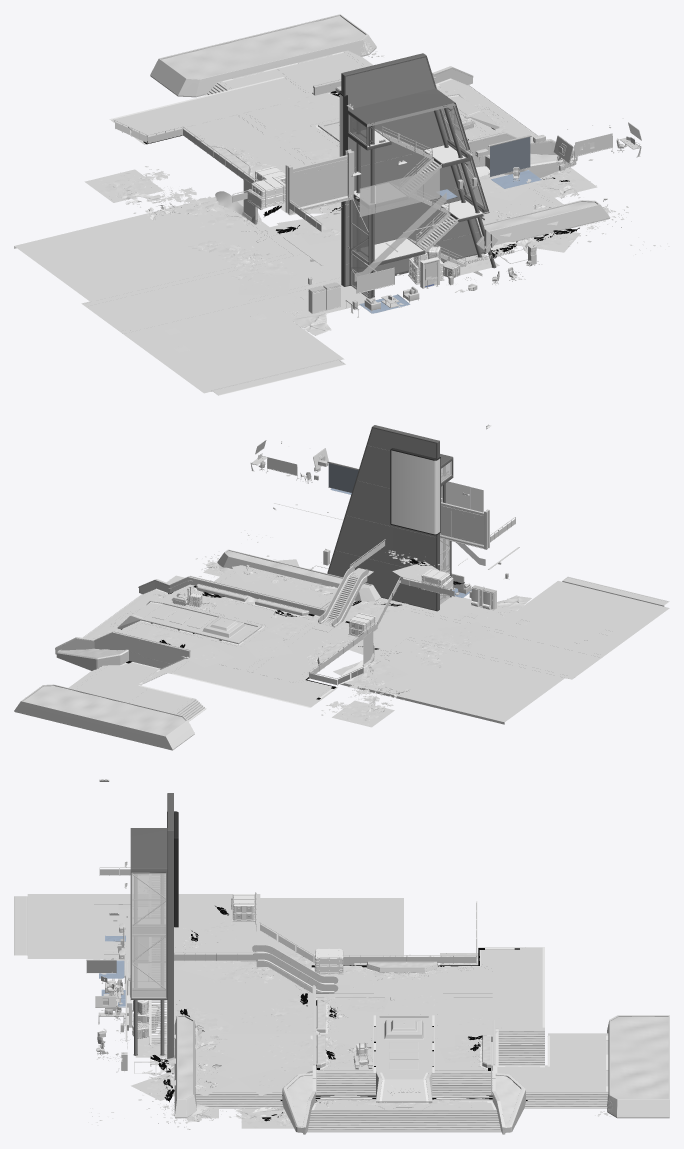
The model's file is cell_167_114.fbx.
3 renders of one model, top to bottom at view 1: azimuth 30°, elevation 25°; view 2: azimuth 150°, elevation 25°; view 3: azimuth 270°, elevation 25°, orthographic. The views are drawn at different scales.
Parts seen in each view (by area): view 1: SM_I_RoadFacility_Ground_FutureTech_H_01.mo.001, SM_H_Building_FutureTech_HTerrace_01.mo, SM_H_Building_FutureTech_HStairs_03_ExterWall_01.mo, SM_H_Fence_SoundproofWall_02.mo.079, SM_H_Building_FutureTech_HStairs_03_ExterWall_01C.mo, SM_H_Building_FutureTech_HBlue_01_InterWall_05C.mo, SM_M_Government_Office_ProjectorScreen_01.mo.002, SM_DECOR_GrassDebris_Less_01_HD.mo.1044, SM_DECOR_GrassDebris_Less_01_HD.mo.998, SM_DECOR_GrassDebris_Less_01_HD.mo.1042, SM_DECOR_GrassDebris_Dry_01_HD.mo.064, SM_H_Building_FutureTech_HBlue_01_InterWall_01D.mo (+10 smaller); view 2: SM_H_Building_FutureTech_HTerrace_01.mo, SM_I_RoadFacility_Ground_FutureTech_H_01.mo.001, SM_H_Building_FutureTech_HStairs_03_ExterWall_01.mo, SM_H_Building_FutureTech_HScreen_02.mo, SM_H_Fence_SoundproofWall_02.mo.079, SM_H_Transport_Utility_Escalator_01.mo.002, SM_H_Building_FutureTech_HTerrace_01c.mo.001, SM_H_Building_FutureTech_HTerrace_01b.mo.001, SM_M_Government_Office_ProjectorScreen_01.mo.002, SM_DECOR_GrassDebris_Less_01_HD.mo.1044, SM_DECOR_GrassDebris_Less_01_HD.mo.998, SM_DECOR_GrassDebris_Less_01_HD.mo.1042 (+4 smaller); view 3: SM_H_Building_FutureTech_HTerrace_01.mo, SM_I_RoadFacility_Ground_FutureTech_H_01.mo.001, SM_H_Building_FutureTech_HTerrace_01b.mo.001, SM_H_Building_FutureTech_HStairs_03_ExterWall_01.mo, SM_H_Building_FutureTech_HStairs_03_ExterWall_01B.mo, SM_H_Building_FutureTech_HTerrace_01c.mo.001, SM_H_Transport_Utility_Escalator_01.mo.002, SM_DECOR_GrassDebris_Less_01_HD.mo.1044, SM_DECOR_GrassDebris_Less_01_HD.mo.1006, SM_DECOR_GrassDebris_Less_01_HD.mo.1042, SM_DECOR_GrassDebris_Less_01_HD.mo.1008, SM_DECOR_GrassDebris_Less_01_HD.mo.1054 (+9 smaller).
Part boxes in pixels (x1,y1,x2,y2): SM_I_RoadFacility_Ground_FutureTech_H_01.mo.001: (14,196,366,395); SM_H_Building_FutureTech_HTerrace_01.mo: (111,14,609,245); SM_H_Building_FutureTech_HStairs_03_ExterWall_01.mo: (341,53,496,298); SM_H_Fence_SoundproofWall_02.mo.079: (285,155,348,214); SM_H_Building_FutureTech_HStairs_03_ExterWall_01C.mo: (350,115,370,298); SM_H_Building_FutureTech_HBlue_01_InterWall_05C.mo: (376,173,423,212); SM_M_Government_Office_ProjectorScreen_01.mo.002: (488,134,532,177); SM_DECOR_GrassDebris_Less_01_HD.mo.1044: (259,125,317,148); SM_DECOR_GrassDebris_Less_01_HD.mo.998: (238,273,290,295); SM_DECOR_GrassDebris_Less_01_HD.mo.1042: (279,92,335,115); SM_DECOR_GrassDebris_Dry_01_HD.mo.064: (84,169,163,202); SM_H_Building_FutureTech_HBlue_01_InterWall_01D.mo: (354,192,446,281); SM_H_Building_FutureTech_HTerrace_01.mo: (14,549,380,750); SM_I_RoadFacility_Ground_FutureTech_H_01.mo.001: (337,576,669,724); SM_H_Building_FutureTech_HStairs_03_ExterWall_01.mo: (327,425,453,611); SM_H_Building_FutureTech_HScreen_02.mo: (390,448,440,535); SM_H_Fence_SoundproofWall_02.mo.079: (440,502,489,549); SM_H_Transport_Utility_Escalator_01.mo.002: (313,566,373,632); SM_H_Building_FutureTech_HTerrace_01c.mo.001: (143,604,256,641); SM_H_Building_FutureTech_HTerrace_01b.mo.001: (96,585,349,721); SM_M_Government_Office_ProjectorScreen_01.mo.002: (327,461,358,492); SM_DECOR_GrassDebris_Less_01_HD.mo.1044: (243,637,293,658); SM_DECOR_GrassDebris_Less_01_HD.mo.998: (443,622,494,644); SM_DECOR_GrassDebris_Less_01_HD.mo.1042: (182,644,234,667); SM_H_Building_FutureTech_HTerrace_01.mo: (174,947,669,1134); SM_I_RoadFacility_Ground_FutureTech_H_01.mo.001: (14,894,403,1037); SM_H_Building_FutureTech_HTerrace_01b.mo.001: (196,947,612,1130); SM_H_Building_FutureTech_HStairs_03_ExterWall_01.mo: (130,793,173,1058); SM_H_Building_FutureTech_HStairs_03_ExterWall_01B.mo: (132,873,165,997); SM_H_Building_FutureTech_HTerrace_01c.mo.001: (379,1017,428,1072); SM_H_Transport_Utility_Escalator_01.mo.002: (240,944,349,993); SM_DECOR_GrassDebris_Less_01_HD.mo.1044: (392,986,457,1014); SM_DECOR_GrassDebris_Less_01_HD.mo.1006: (242,1037,299,1062); SM_DECOR_GrassDebris_Less_01_HD.mo.1042: (450,1009,509,1035); SM_DECOR_GrassDebris_Less_01_HD.mo.1008: (238,1068,292,1095); SM_DECOR_GrassDebris_Less_01_HD.mo.1054: (205,915,252,935).
Size of the model in its own units: 59.26 by 24.74 by 68.32.
